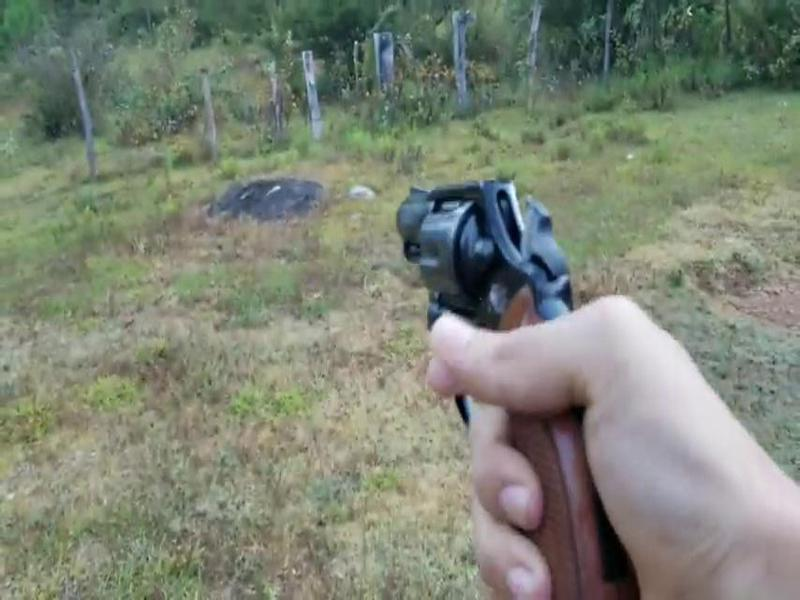Revolver: (376, 165, 627, 571)
